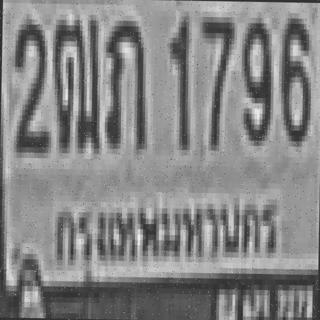A18: (51, 14, 98, 148)
A32: (103, 18, 145, 146)
N01: (167, 14, 188, 147)
N02: (11, 16, 48, 150)
N06: (278, 13, 309, 141)
N07: (198, 11, 232, 145)
N09: (239, 12, 270, 141)
P04: (43, 186, 290, 280)
